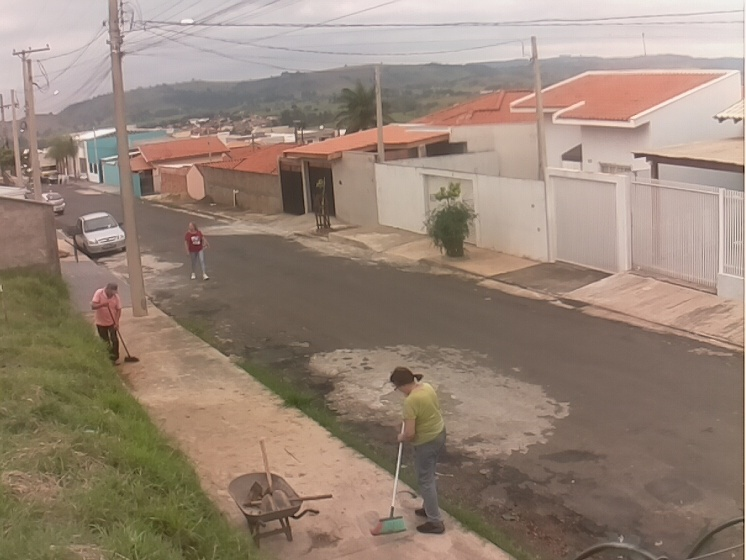person: (389, 365, 450, 535), (90, 282, 123, 365), (185, 222, 210, 281)
